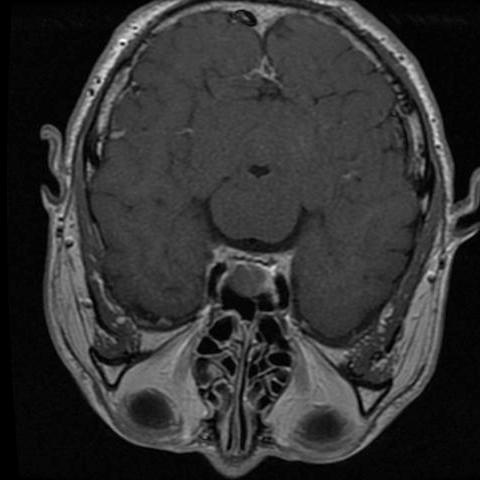Tumour-Pituitary: (207, 248, 300, 307)
